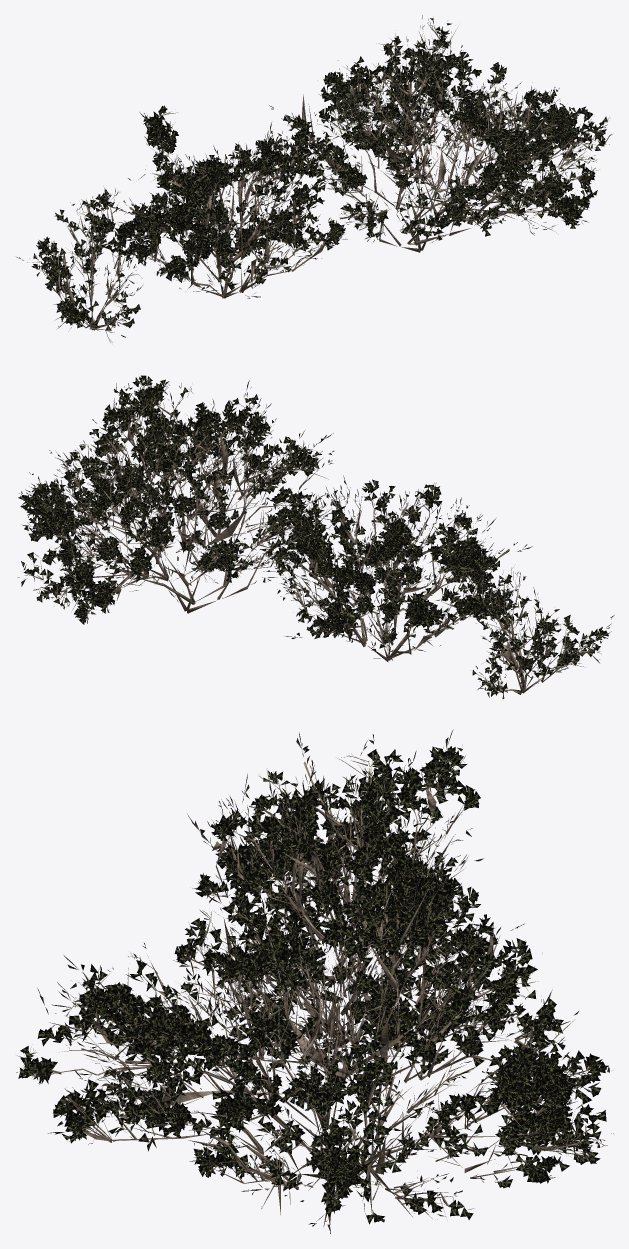
File: searsia_burchellii.glb
3 views of the same model, one above another, from view 1: azimuth 30°, elevation 25°; view 2: azimuth 150°, elevation 25°; view 3: azimuth 270°, elevation 25° (orthographic). The views are drawn at different scales.
Parts seen in each view (by area): view 1: sb_modello; view 2: sb_modello; view 3: sb_modello.
Boxes of the visible parts, x1=… form: sb_modello: x1=16, y1=15, x2=612, y2=342; sb_modello: x1=17, y1=375, x2=614, y2=698; sb_modello: x1=16, y1=729, x2=613, y2=1233.
Bounding box in the file's own units: 8.34 × 3.22 × 5.
3 materials, 3 textured.
